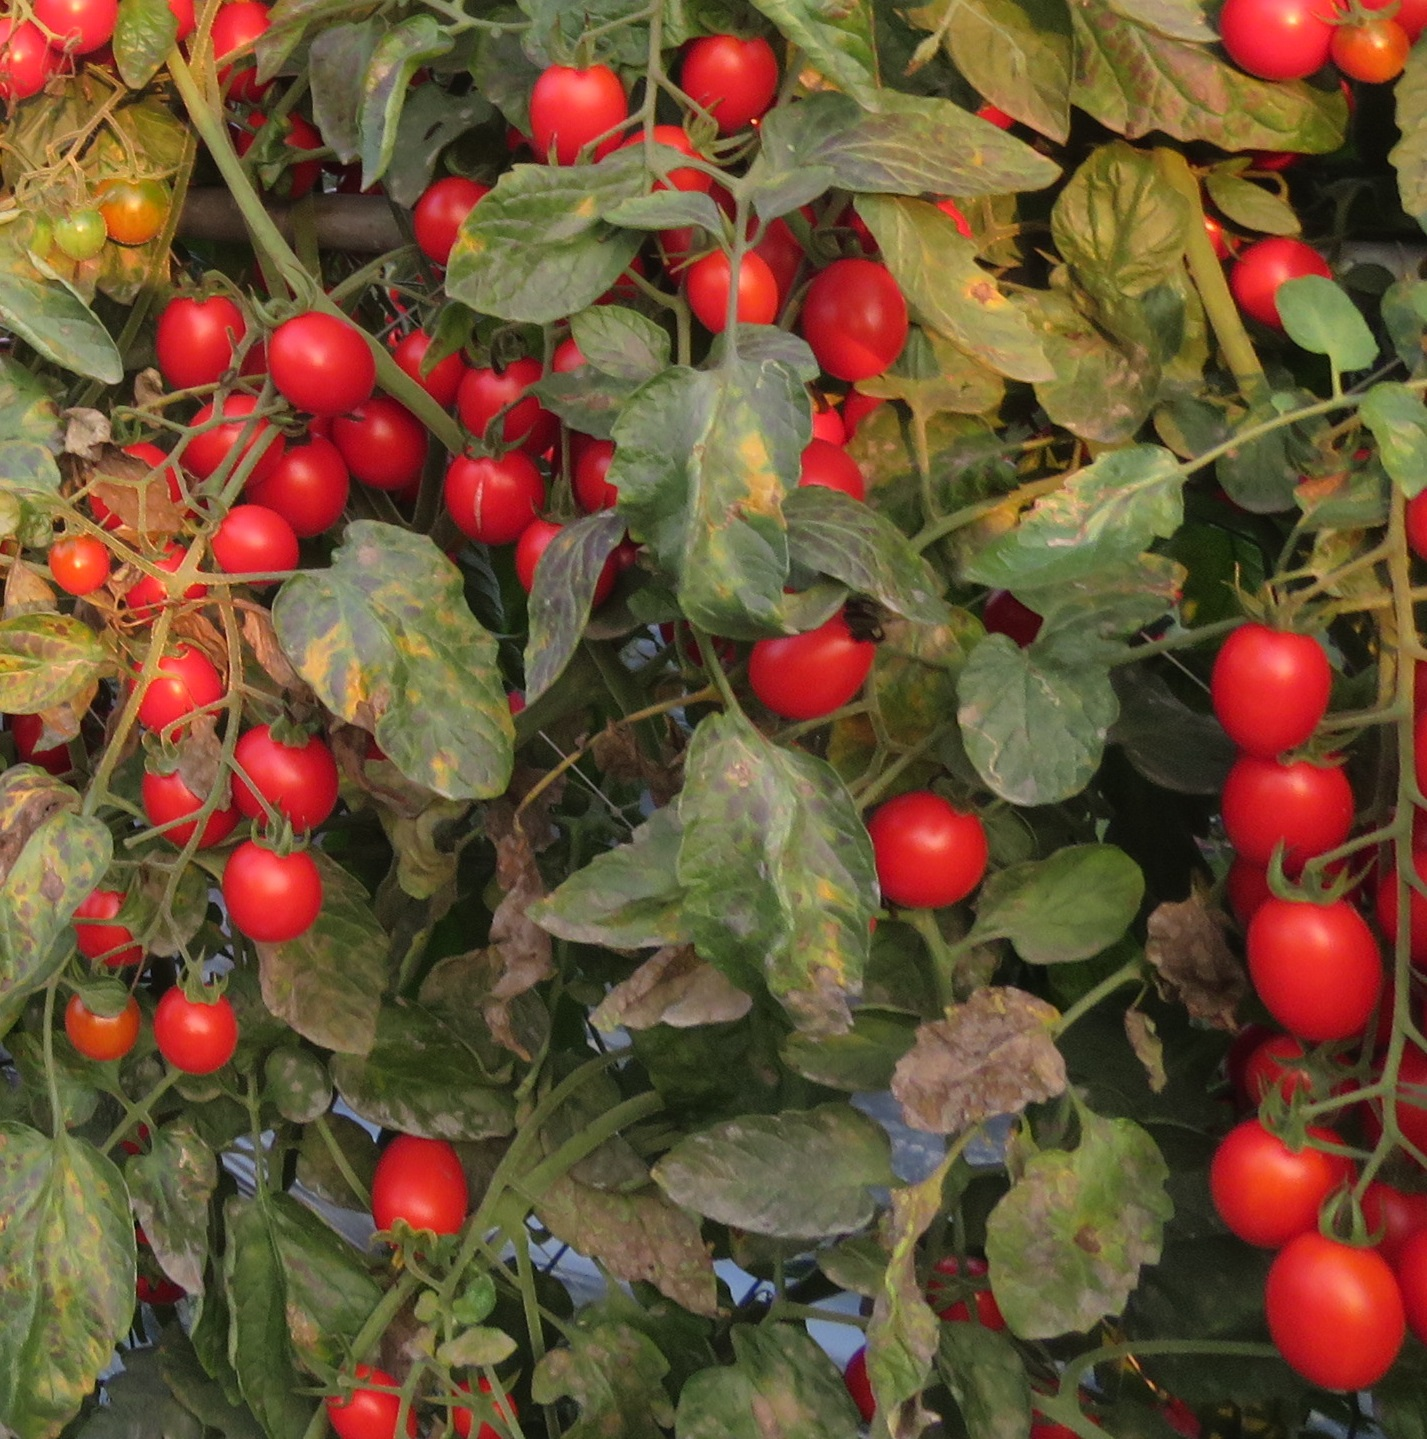green: (108, 176, 182, 247), (56, 210, 108, 261)
orange: (687, 244, 781, 335), (65, 985, 146, 1064), (52, 538, 116, 603)
red: (1245, 891, 1386, 1050), (1262, 1236, 1401, 1392), (1202, 626, 1339, 765), (1205, 755, 1368, 861), (1211, 1121, 1346, 1249), (261, 307, 383, 417), (746, 623, 879, 720), (866, 804, 994, 904), (365, 1127, 478, 1235), (812, 256, 907, 380), (217, 840, 325, 941), (234, 731, 340, 833), (676, 31, 775, 137), (1207, 1, 1339, 80), (1228, 233, 1339, 322), (443, 450, 541, 540), (529, 67, 617, 162), (265, 438, 355, 529), (133, 647, 222, 738), (1332, 10, 1422, 95), (335, 404, 431, 482), (153, 295, 238, 379), (463, 362, 546, 444), (325, 1368, 416, 1439), (204, 514, 304, 574), (156, 993, 235, 1068)
